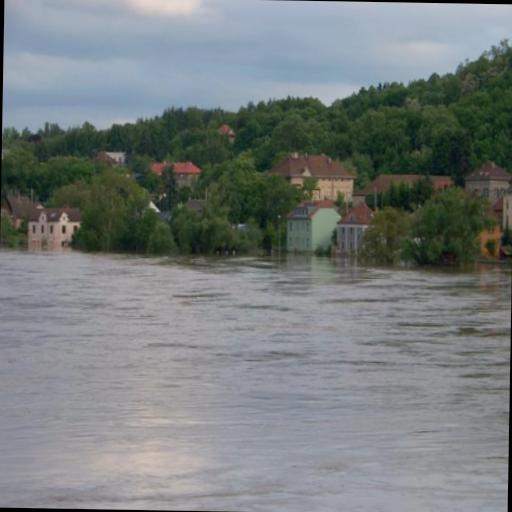flood: (0, 252, 512, 512)
house: (274, 152, 356, 202), (284, 199, 340, 256), (27, 204, 81, 252), (463, 160, 512, 202), (338, 203, 374, 252), (151, 162, 202, 188), (1, 192, 30, 230), (506, 184, 512, 235)
